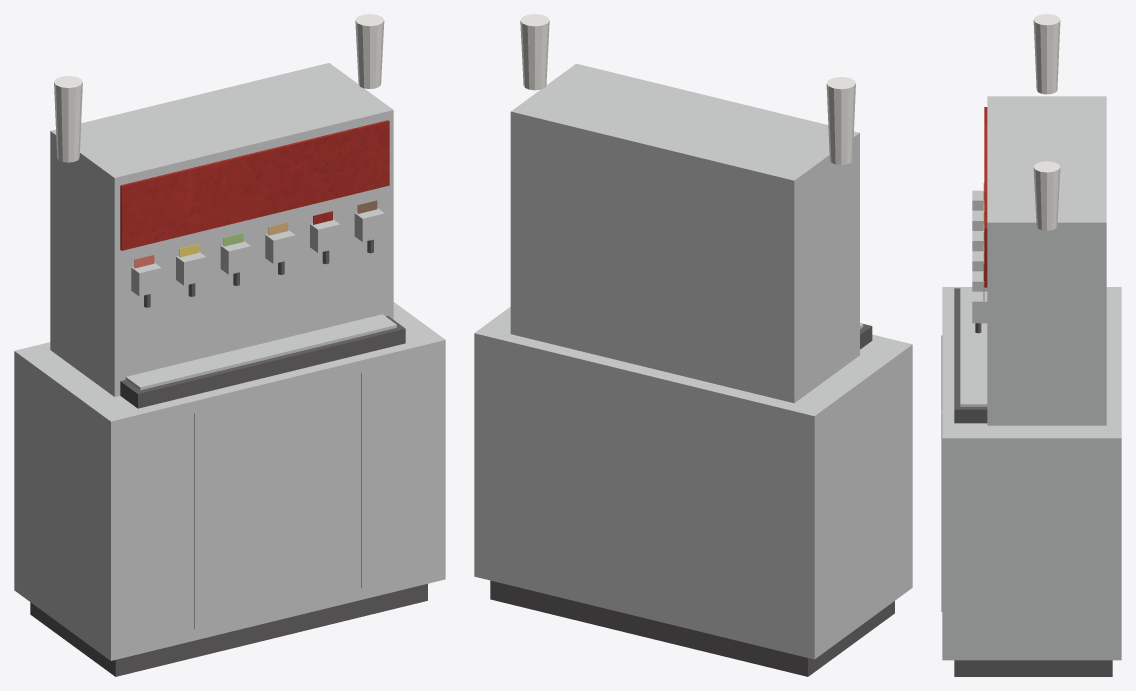
Rendered from drink_station.glb.
The picture shows the model from 3 angles, left to right: view 1: azimuth 30°, elevation 25°; view 2: azimuth 150°, elevation 25°; view 3: azimuth 270°, elevation 25°; orthographic projection. The views are drawn at different scales.
Visible parts, largest first — view 1: drink_station_steel, drink_station_red, drink_station_dark, drink_station_cup_w; view 2: drink_station_steel, drink_station_dark, drink_station_cup_w; view 3: drink_station_steel, drink_station_dark, drink_station_cup_w, drink_station_red.
Boxes of the visible parts, x1,y1,x2,y2 form: drink_station_steel: (14,63,445,660); drink_station_red: (120,120,389,250); drink_station_dark: (30,239,427,676); drink_station_cup_w: (54,14,384,162); drink_station_steel: (474,63,912,659); drink_station_dark: (490,323,894,676); drink_station_cup_w: (520,14,855,164); drink_station_steel: (941,96,1121,660); drink_station_dark: (954,288,1112,676); drink_station_cup_w: (1033,14,1060,230); drink_station_red: (983,107,987,287).
Size of the model in its own units: 1.2 by 1.91 by 0.604.
9 materials, 1 textured.
